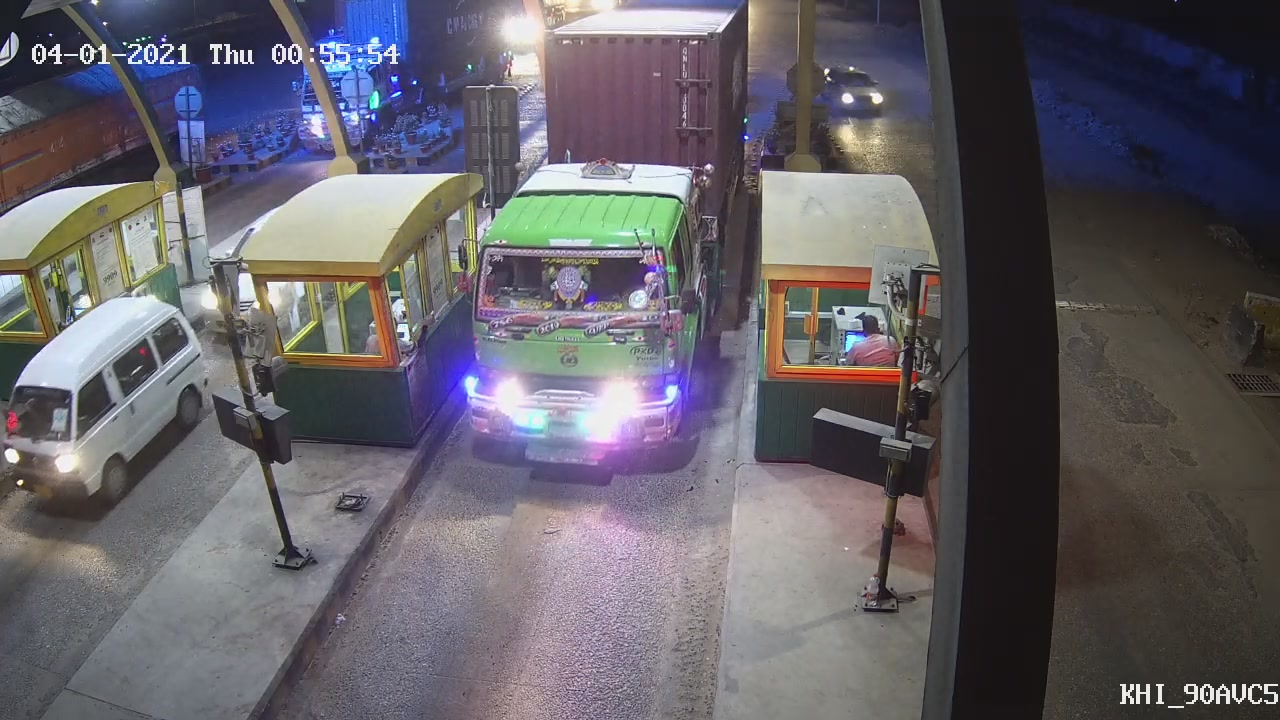F5: (438, 24, 751, 478)
